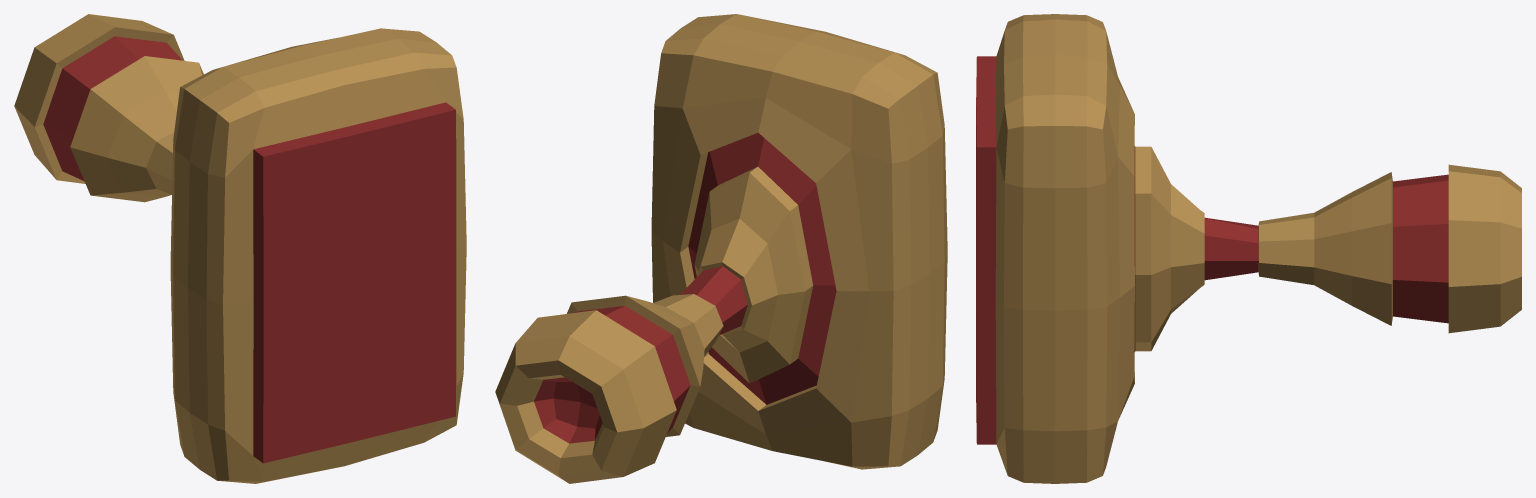
File: Carimbo.glb
3 views of the same model, side by side, from view 1: azimuth 30°, elevation 25°; view 2: azimuth 150°, elevation 25°; view 3: azimuth 270°, elevation 25° (orthographic). The views are drawn at different scales.
Visible parts, largest first — view 1: carimbo; view 2: carimbo; view 3: carimbo.
Part boxes in pixels (left/top/right/bottom): carimbo: left=14, top=14, right=466, bottom=483; carimbo: left=495, top=14, right=947, bottom=483; carimbo: left=976, top=14, right=1521, bottom=483.
Size of the model in its own units: 1.07 by 1.57 by 2.
1 material, 1 textured.
